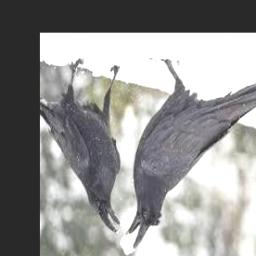Crow: (126, 58, 256, 250), (40, 57, 122, 234)
